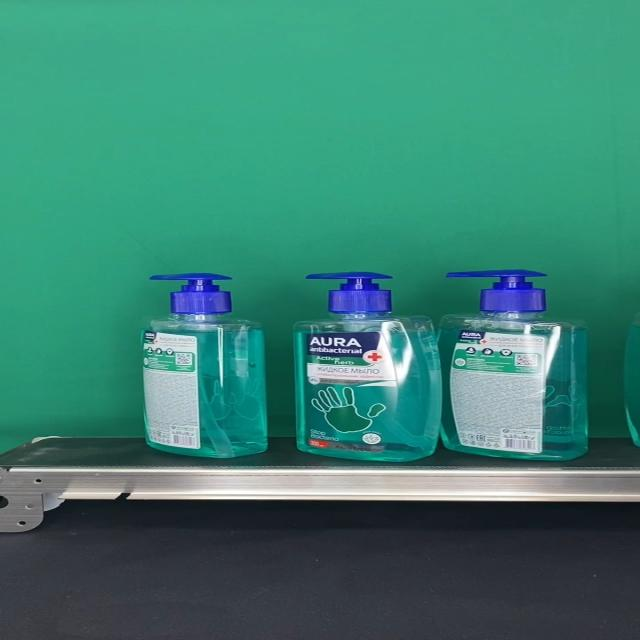Bottle: (438, 270, 590, 460), (294, 272, 442, 462), (139, 273, 267, 459)
Cap: (445, 270, 548, 312), (304, 272, 394, 313), (148, 273, 232, 314)
